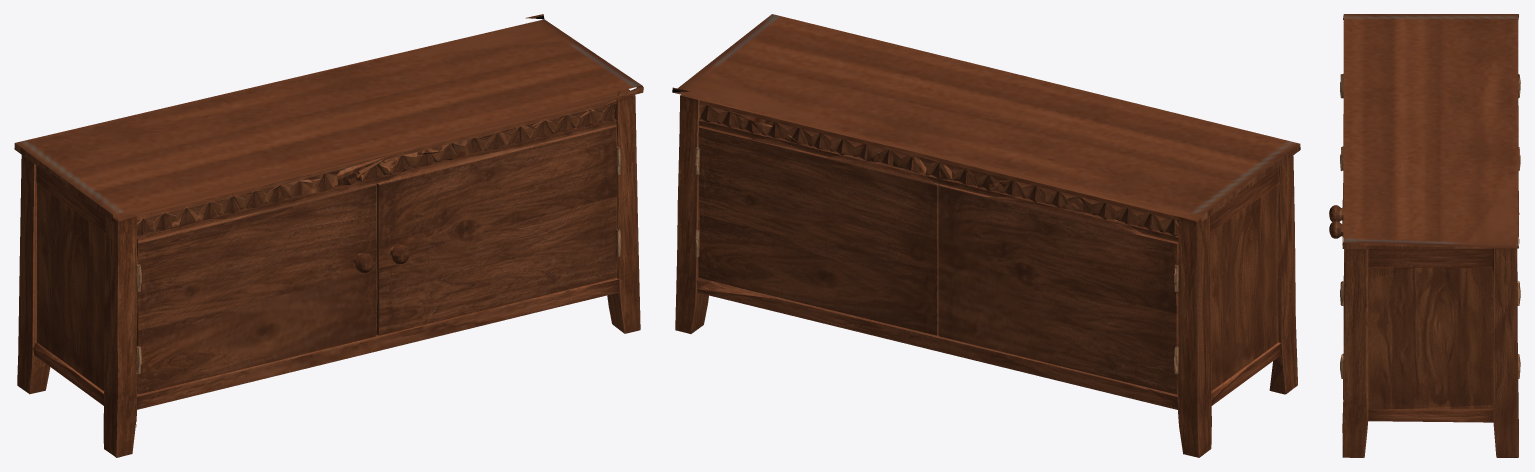
The model's file is cabinet.glb.
The picture shows the model from 3 angles, left to right: view 1: azimuth 30°, elevation 25°; view 2: azimuth 150°, elevation 25°; view 3: azimuth 270°, elevation 25°; orthographic projection. The views are drawn at different scales.
Visible parts, largest first — view 1: output_unwrapped; view 2: output_unwrapped; view 3: output_unwrapped.
Boxes of the visible parts, x1,y1,x2,y2 form: output_unwrapped: [14, 14, 643, 457]; output_unwrapped: [672, 14, 1300, 457]; output_unwrapped: [1329, 14, 1520, 457].
Bounding box in the file's own units: 1.9 × 0.837 × 0.6716.
Materials: 1 (1 with a texture image).
